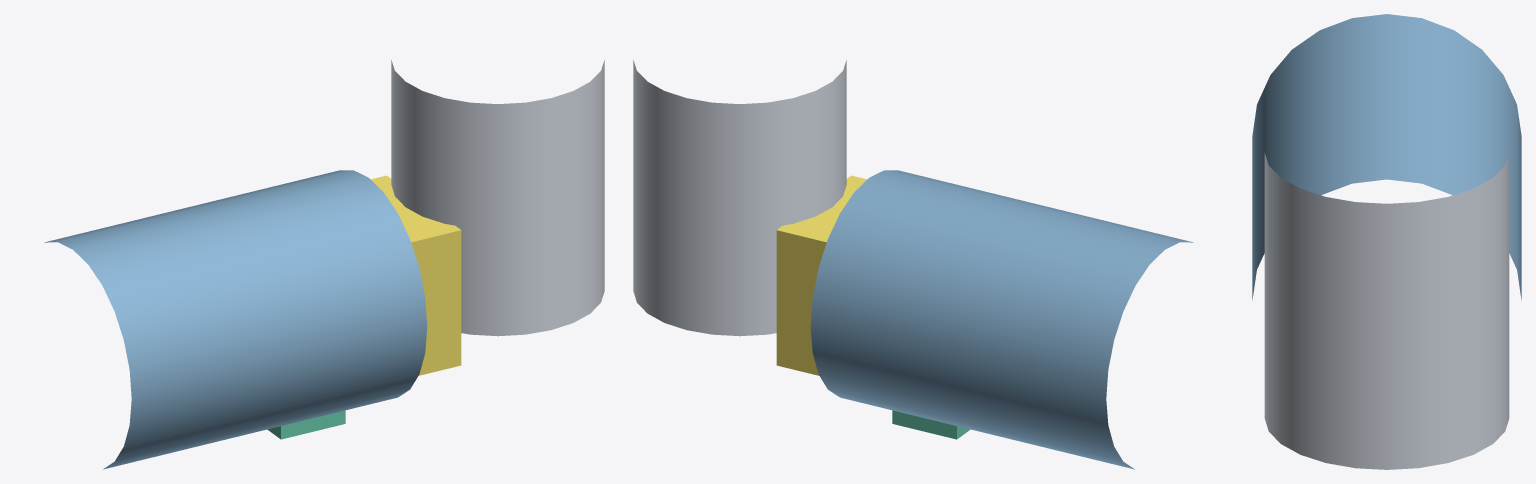
File: steam_condensers_cooling_towers.glb
3 renders of one model, left to right at view 1: azimuth 30°, elevation 25°; view 2: azimuth 150°, elevation 25°; view 3: azimuth 270°, elevation 25°, orthographic. The views are drawn at different scales.
Parts seen in each view (by area): view 1: SurfaceCondenserCylindricalShell, HyperbolicCoolingTowerShell, CondenserTubeBundleWaterBox, CoolingWaterCirculatingPump; view 2: SurfaceCondenserCylindricalShell, HyperbolicCoolingTowerShell, CondenserTubeBundleWaterBox, CoolingWaterCirculatingPump; view 3: HyperbolicCoolingTowerShell, SurfaceCondenserCylindricalShell.
Part boxes in pixels (left/top/right/bottom): SurfaceCondenserCylindricalShell: left=44, top=170, right=427, bottom=469; HyperbolicCoolingTowerShell: left=391, top=60, right=604, bottom=336; CondenserTubeBundleWaterBox: left=371, top=175, right=461, bottom=375; CoolingWaterCirculatingPump: left=267, top=410, right=345, bottom=439; SurfaceCondenserCylindricalShell: left=810, top=170, right=1193, bottom=469; HyperbolicCoolingTowerShell: left=633, top=60, right=846, bottom=336; CondenserTubeBundleWaterBox: left=776, top=175, right=866, bottom=375; CoolingWaterCirculatingPump: left=892, top=410, right=970, bottom=439; HyperbolicCoolingTowerShell: left=1264, top=153, right=1509, bottom=469; SurfaceCondenserCylindricalShell: left=1252, top=14, right=1521, bottom=300.
Bounding box in the file's own units: 2.8 × 1.6 × 1.1.
